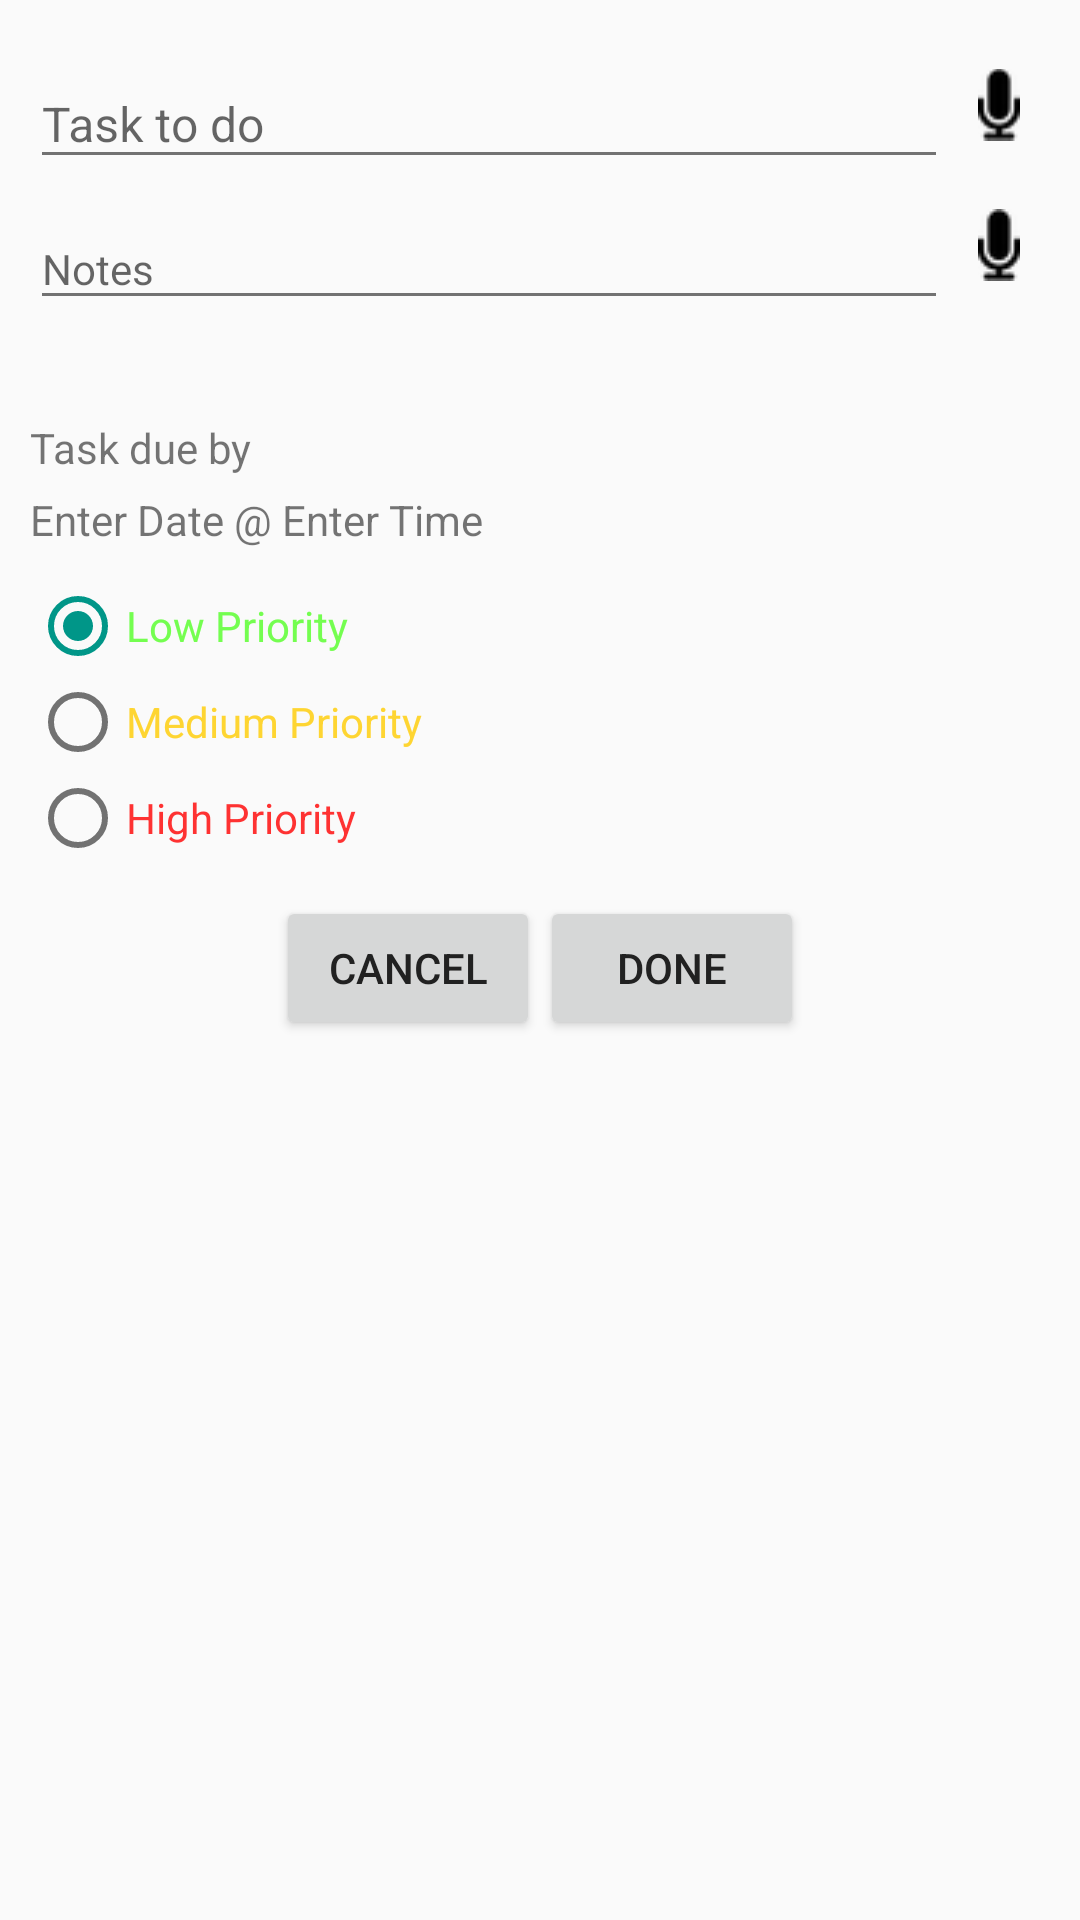

Point at icon controls on the screen. Image size 1080x1920, points as point (x, y).
mic: point (999, 105), point (999, 245)
